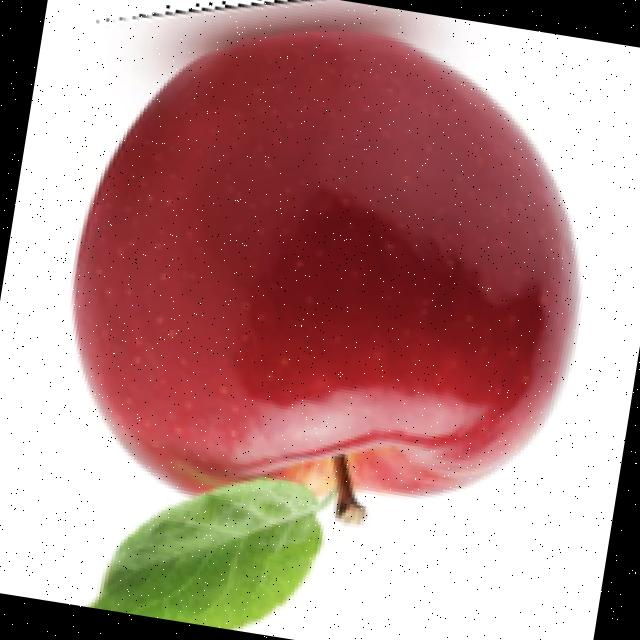apple: (67, 0, 586, 633)
